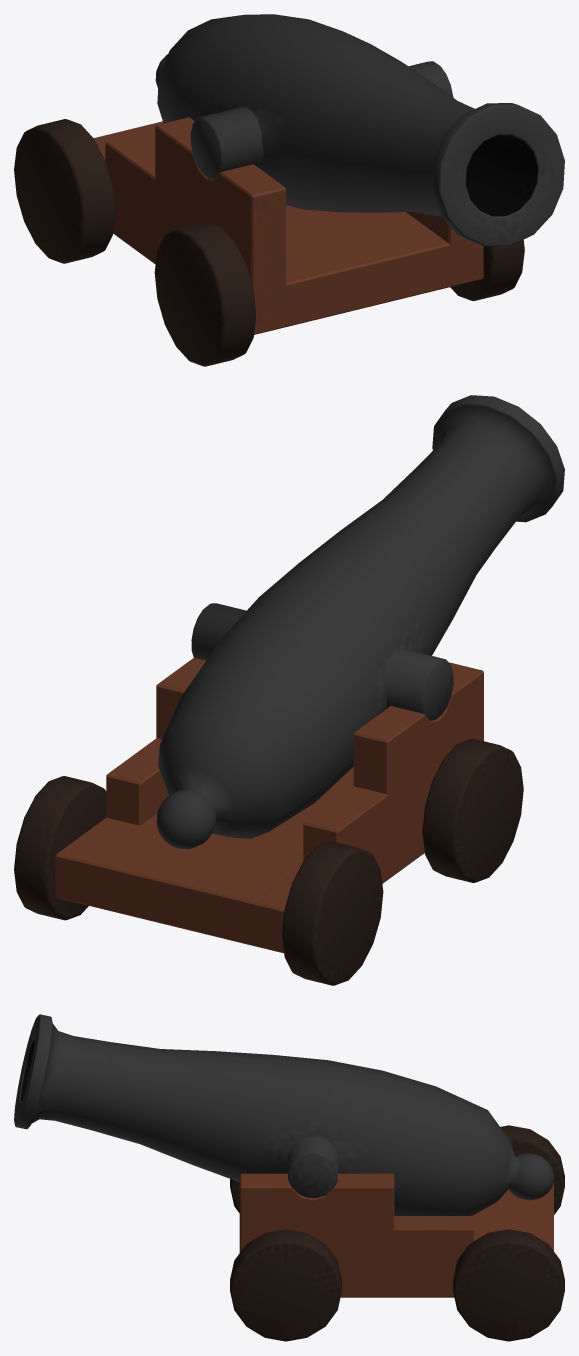
Rendered from cannon.glb.
3 renders of one model, top to bottom at view 1: azimuth 30°, elevation 25°; view 2: azimuth 150°, elevation 25°; view 3: azimuth 270°, elevation 25°, orthographic. The views are drawn at different scales.
Visible parts, largest first — view 1: cannonMount, cannon; view 2: cannon, cannonMount; view 3: cannon, cannonMount.
Boxes of the visible parts, x1,y1,x2,y2 form: cannonMount: (14, 117, 524, 366); cannon: (155, 14, 564, 246); cannon: (156, 395, 564, 849); cannonMount: (14, 658, 523, 985); cannon: (14, 1014, 554, 1215); cannonMount: (230, 1125, 564, 1341).
Bounding box in the file's own units: 0.8238 × 0.8676 × 1.64.
1 material, 1 textured.
